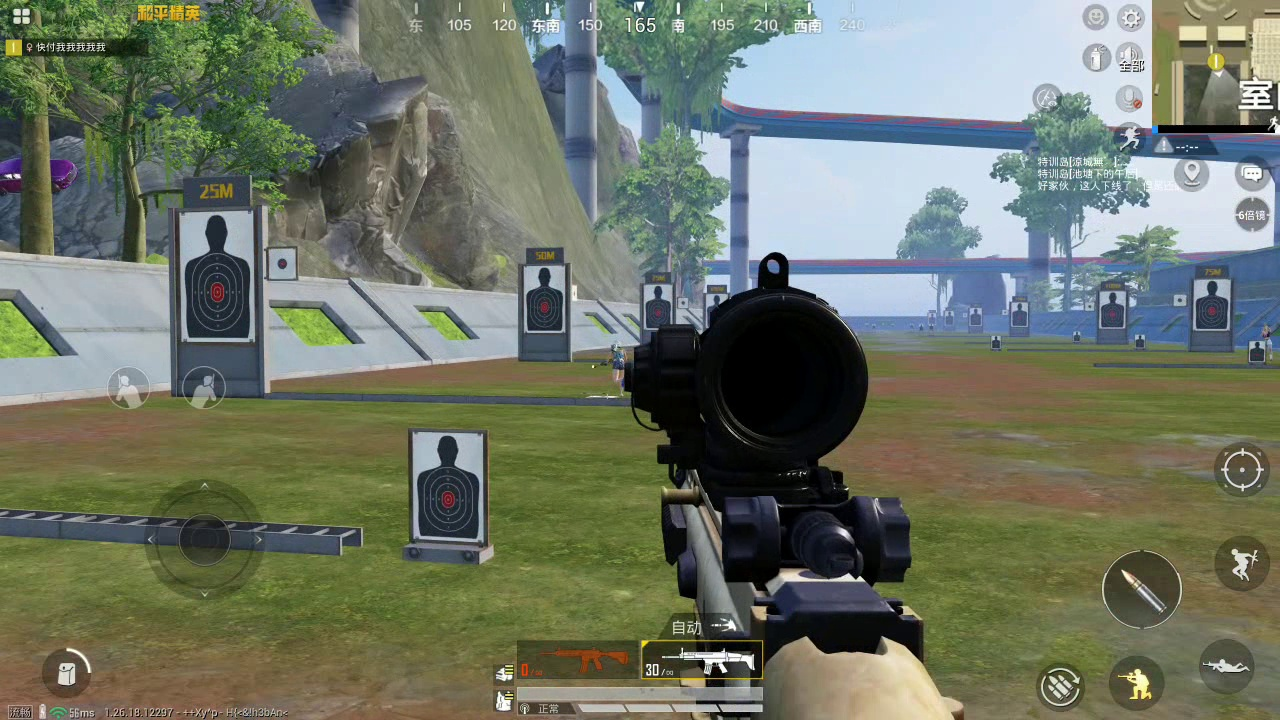enemy: (606, 341, 624, 391)
